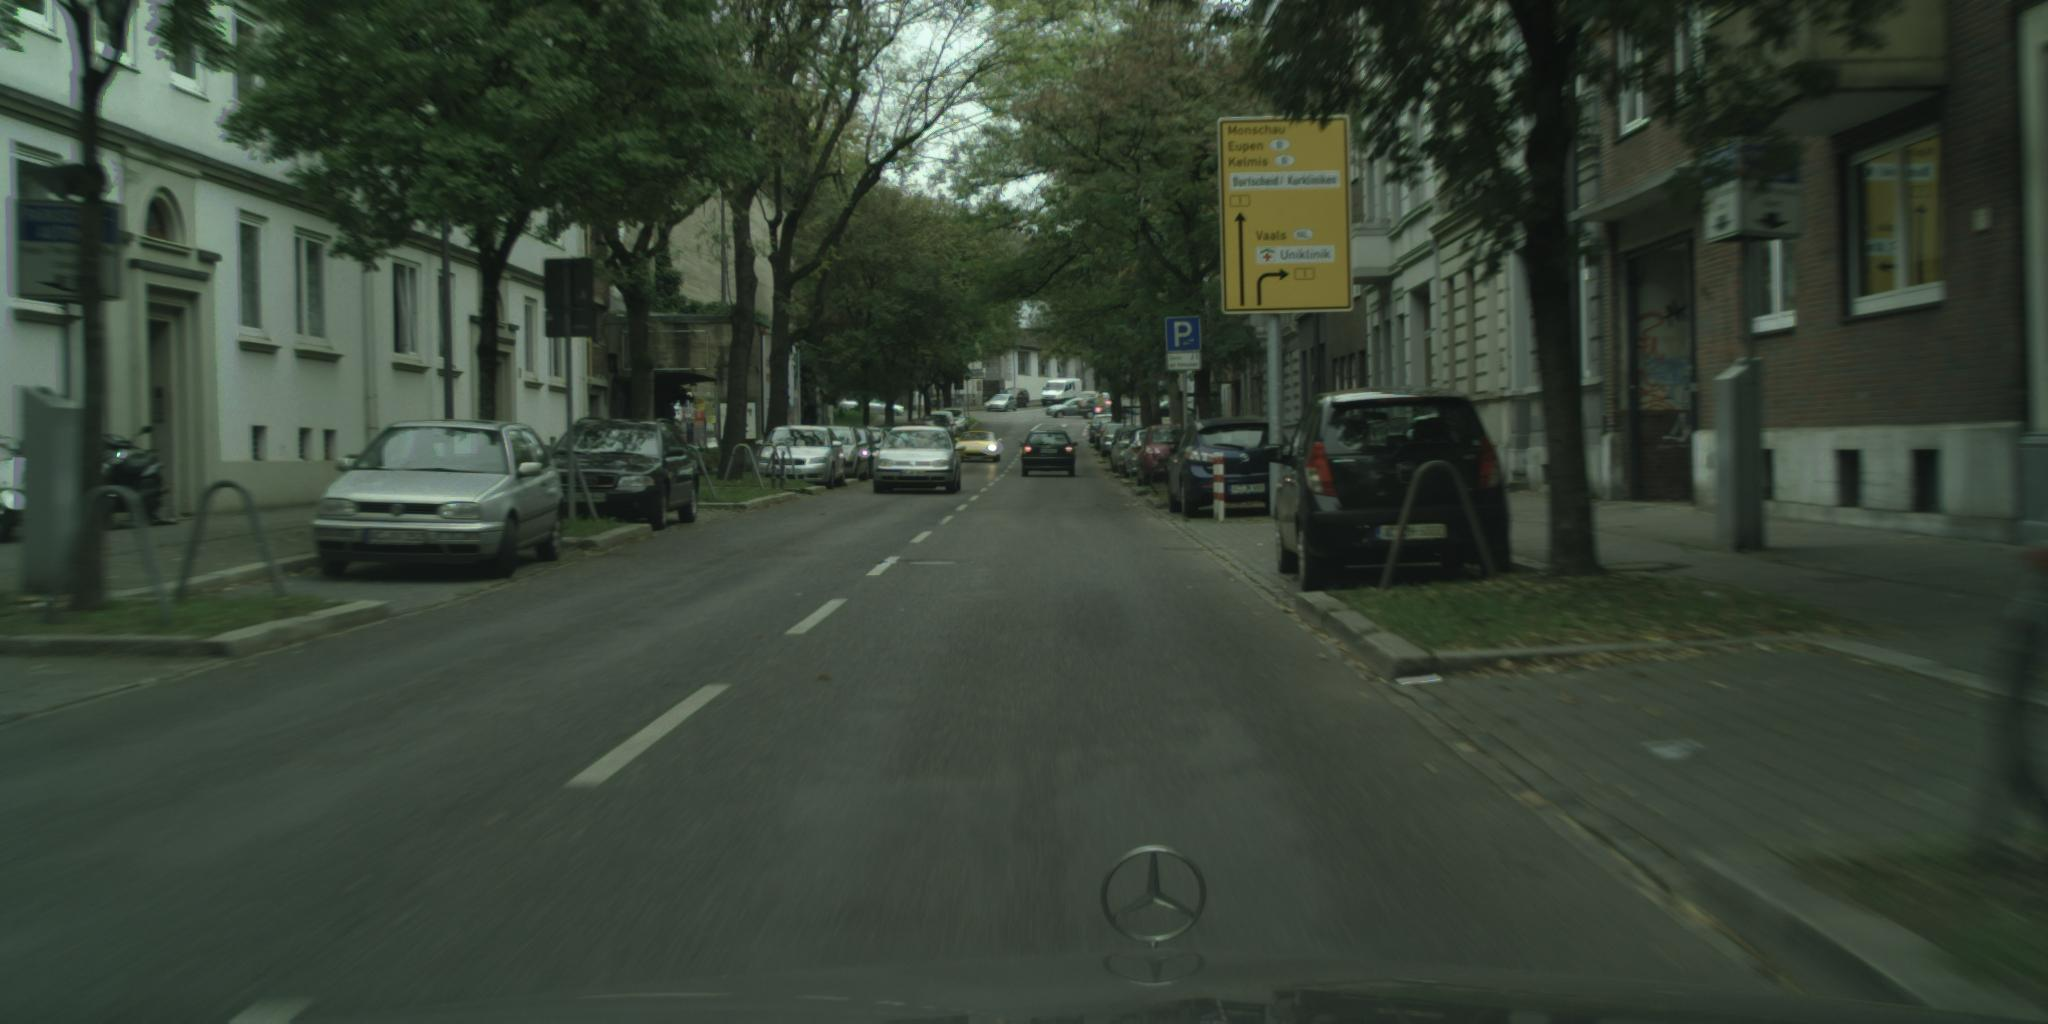car: (1262, 387, 1511, 590), (313, 421, 563, 576), (556, 419, 699, 530), (1169, 418, 1290, 516), (810, 408, 970, 475), (874, 427, 967, 492), (752, 427, 845, 488), (1138, 421, 1196, 487), (1125, 426, 1178, 487), (814, 426, 866, 482), (1020, 431, 1079, 477), (1021, 432, 1078, 475), (846, 428, 878, 481), (953, 431, 1003, 462), (840, 394, 905, 417), (1048, 398, 1109, 419), (1048, 398, 1108, 419), (1042, 379, 1083, 406), (858, 427, 893, 458), (904, 418, 948, 438), (930, 411, 957, 436), (986, 394, 1017, 413), (1000, 389, 1031, 408), (986, 394, 1017, 411)
motorcycle: (102, 427, 172, 521), (1, 435, 27, 541)
